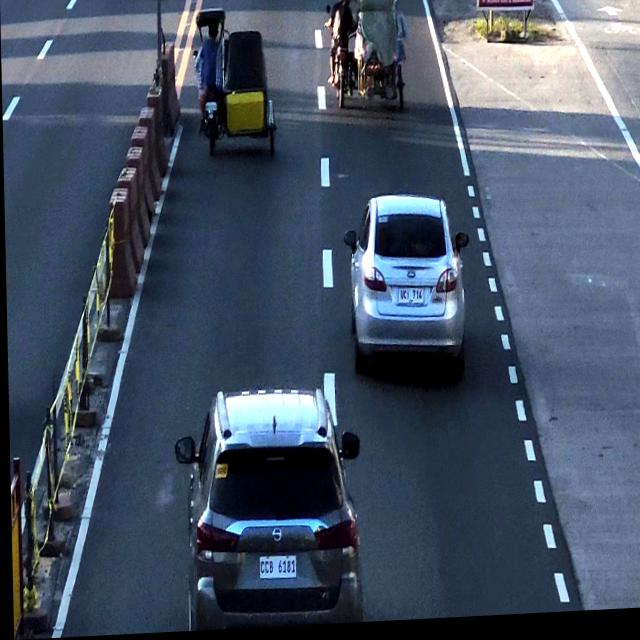Car: (182, 393, 361, 633), (349, 195, 467, 384)
License-Plate: (254, 555, 299, 590), (394, 287, 427, 315)
Tricycle: (191, 5, 276, 161), (326, 0, 406, 111)
